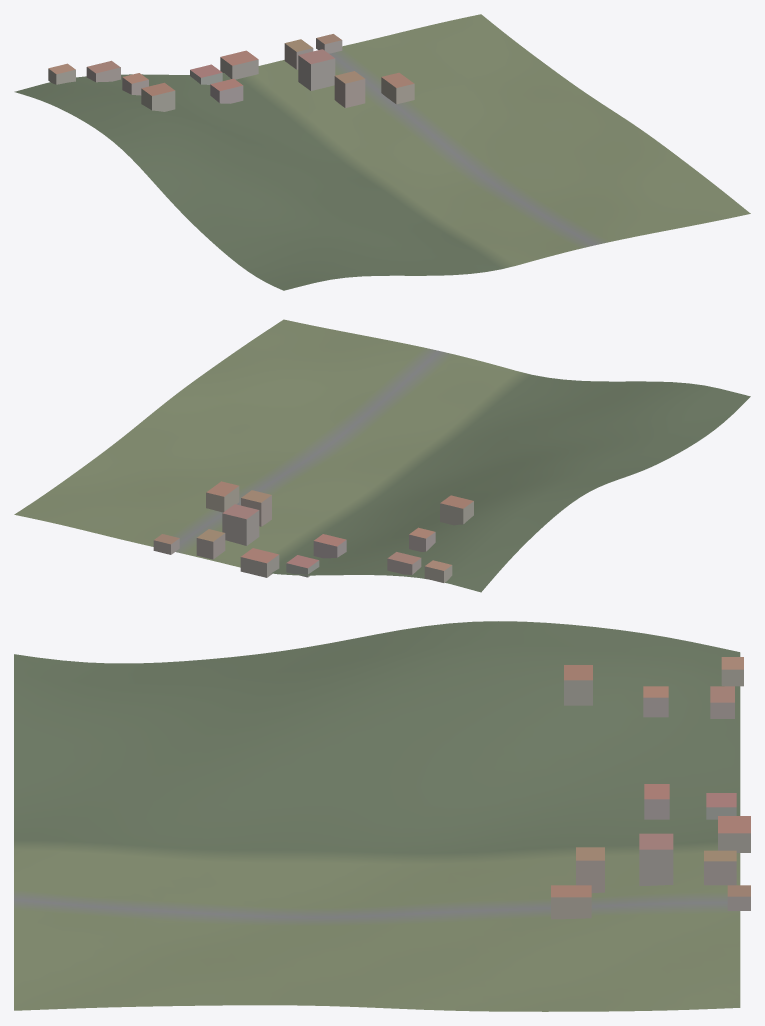
The picture shows the model from 3 angles, top to bottom: view 1: azimuth 30°, elevation 25°; view 2: azimuth 150°, elevation 25°; view 3: azimuth 270°, elevation 25°; orthographic projection. The views are drawn at different scales.
Bounding box in the file's own units: 300 × 43.85 × 304.
